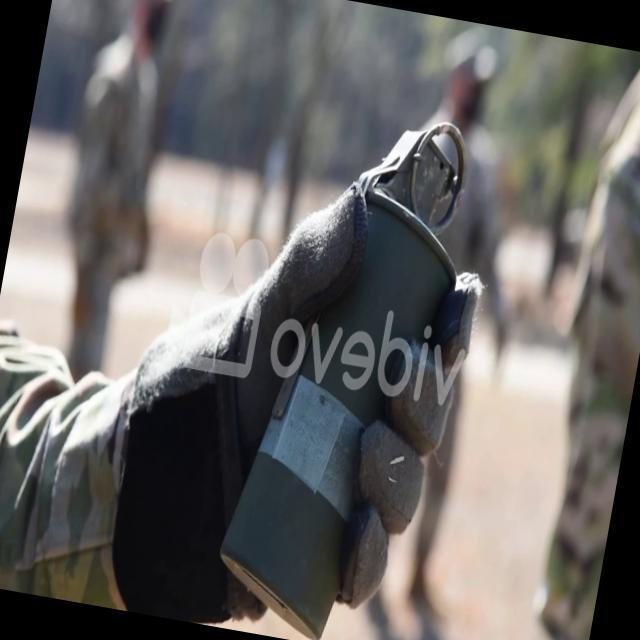grenade: (204, 93, 499, 640)
